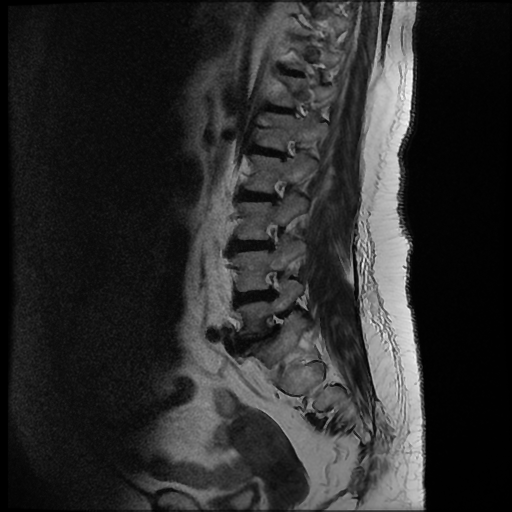LFS1: (256, 217, 289, 261), (257, 263, 291, 305)
